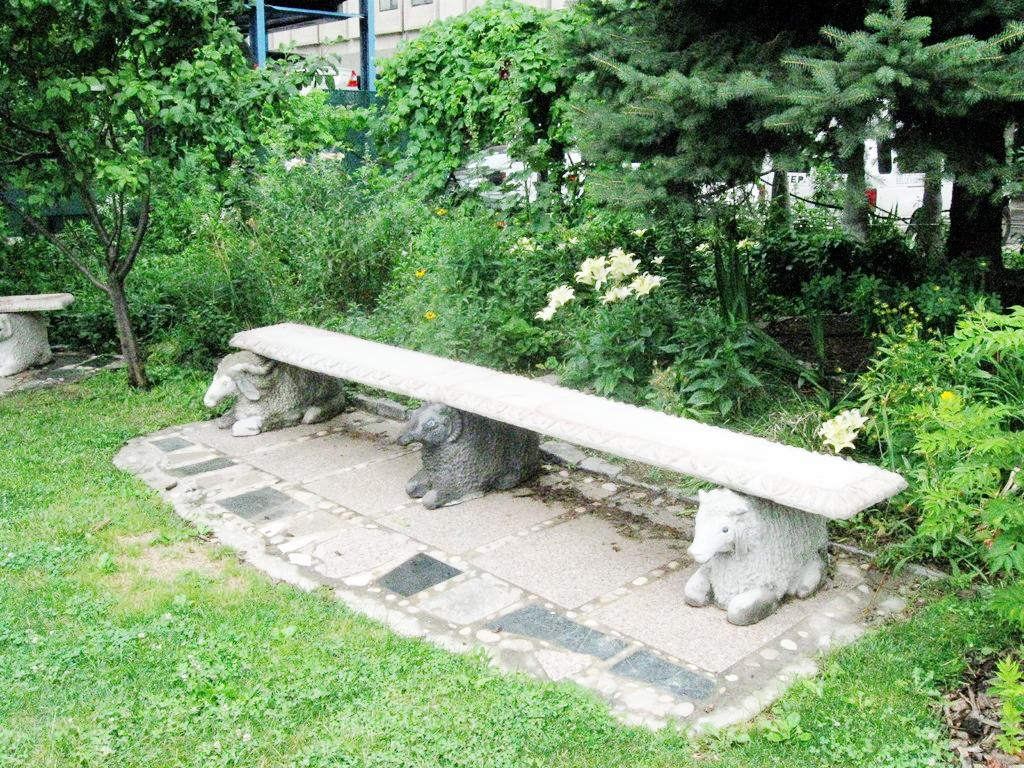Sheep: (670, 486, 844, 632), (394, 404, 542, 514), (202, 349, 349, 438)
